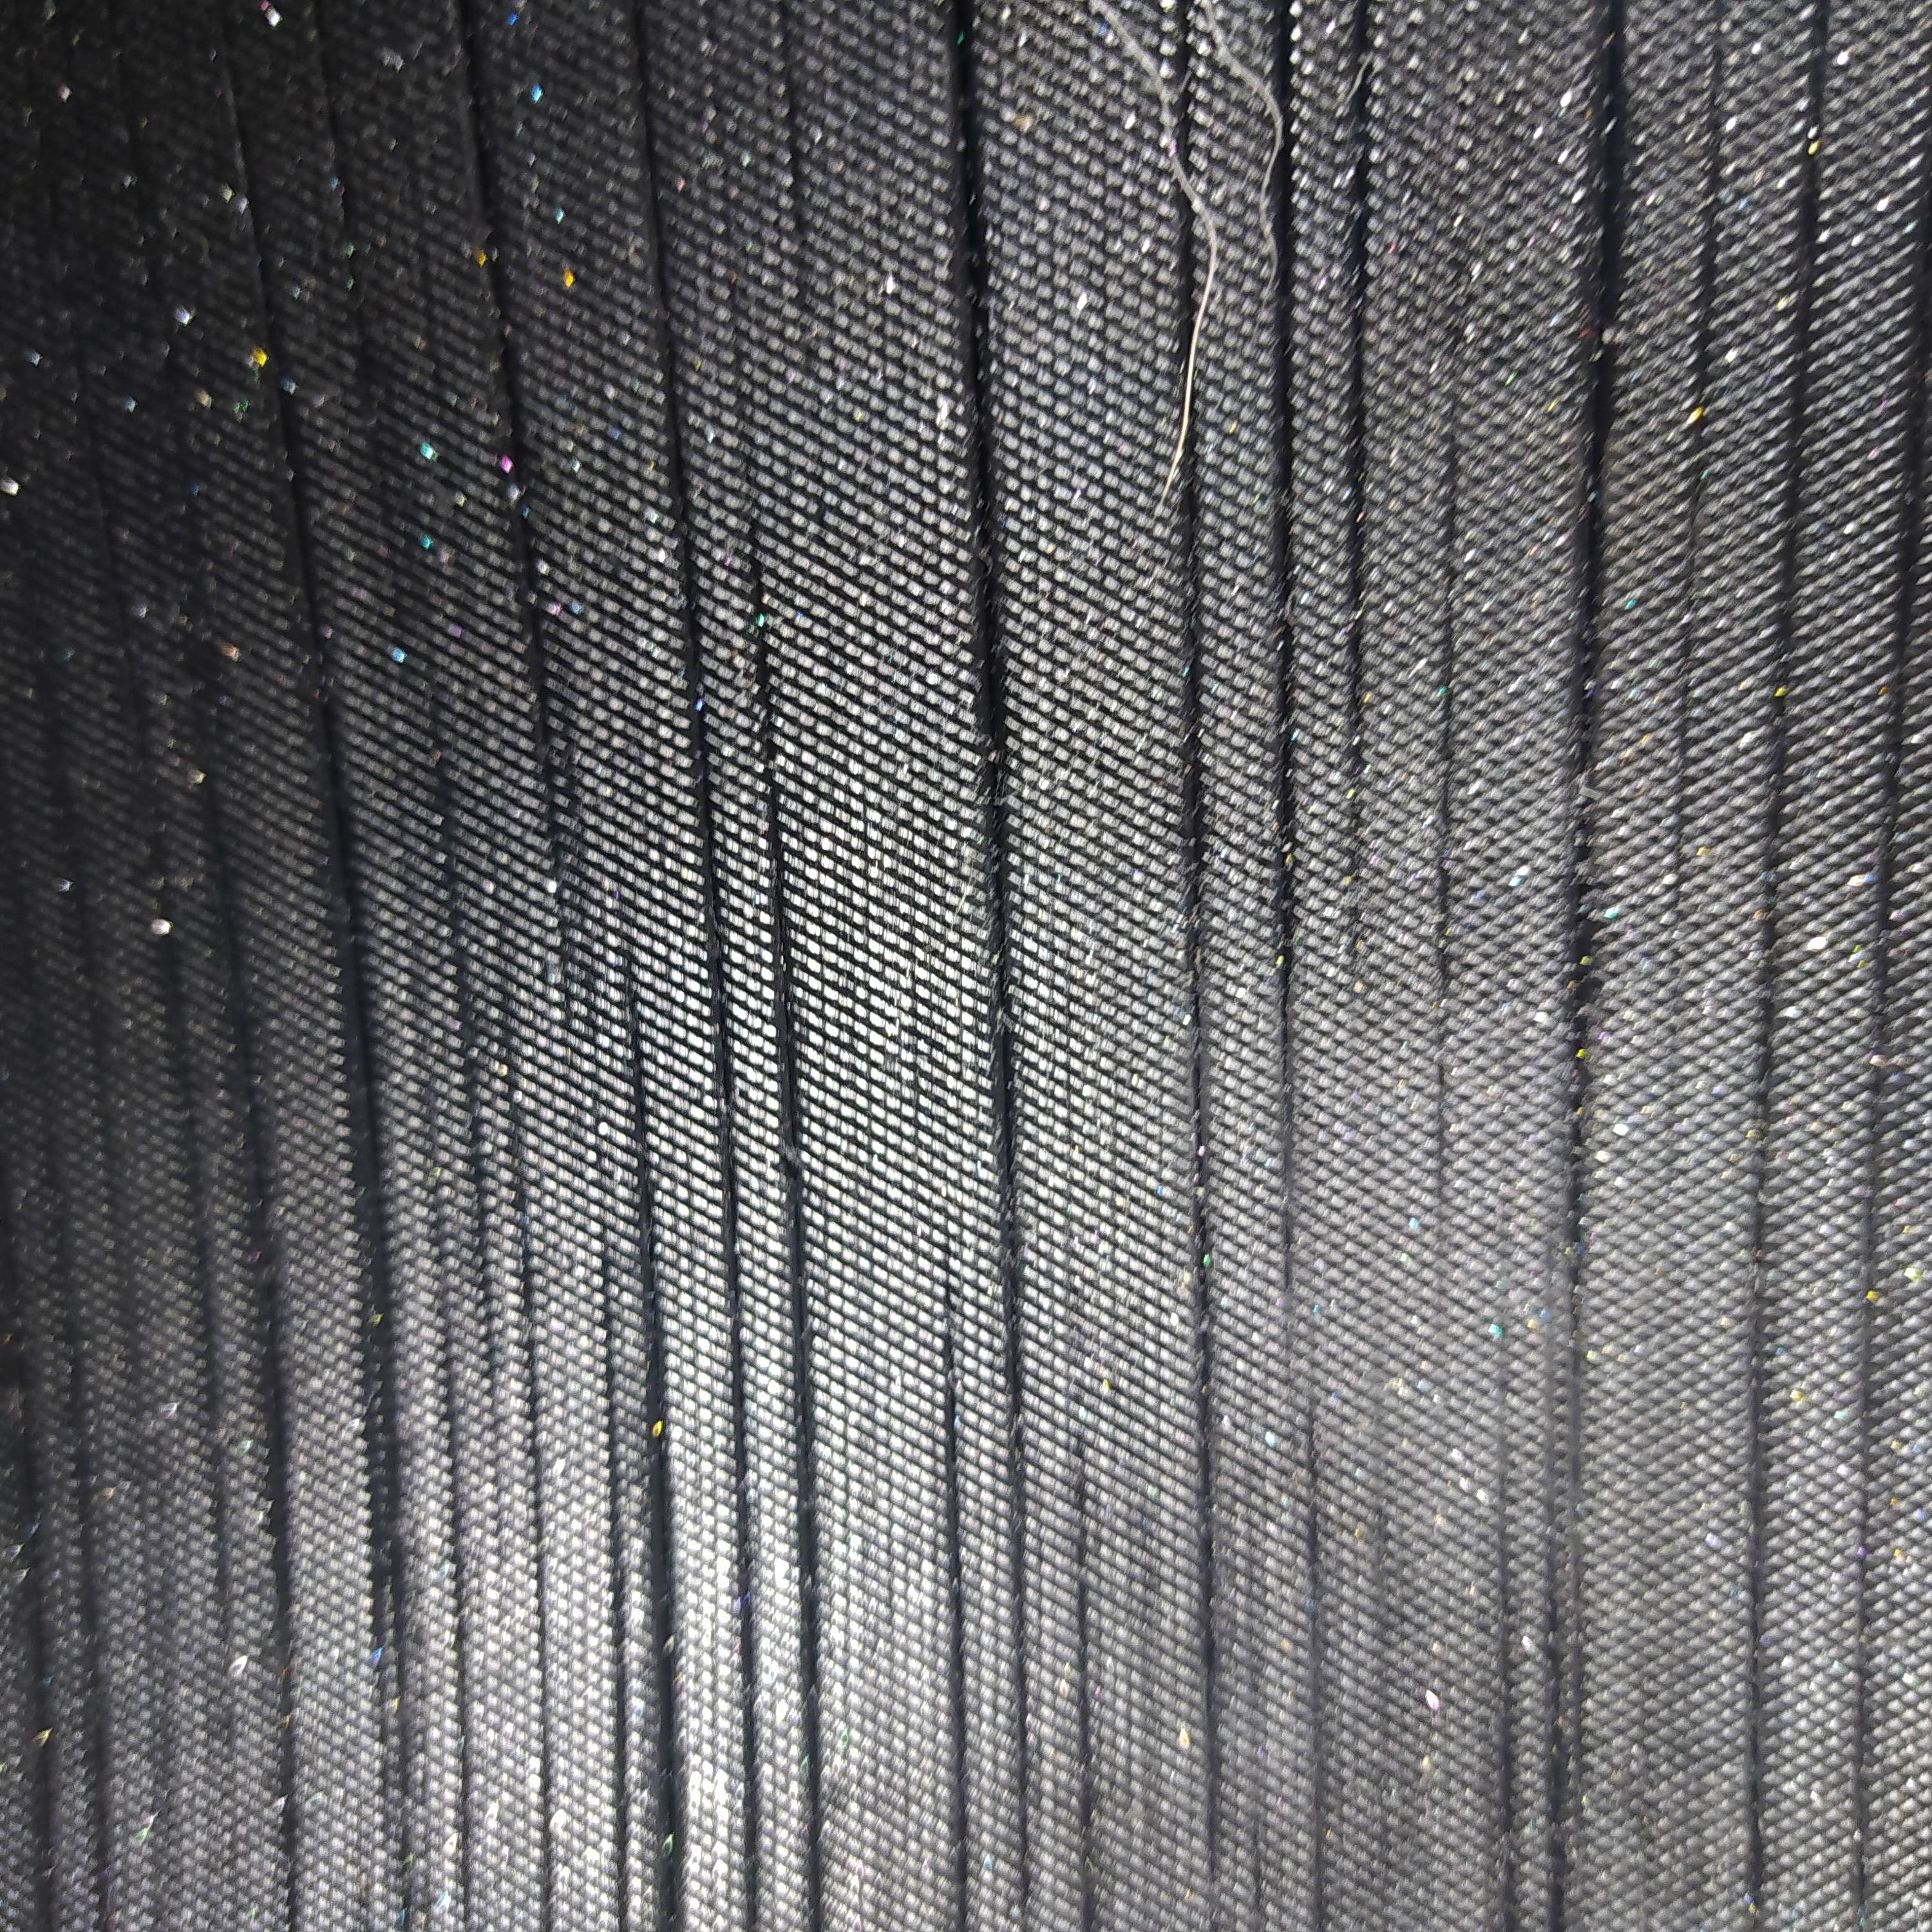friso grande: (1884, 255, 1932, 729), (508, 566, 571, 851), (1330, 4, 1387, 322), (950, 315, 1016, 580), (939, 7, 994, 320), (483, 248, 534, 573), (1189, 1290, 1226, 1732), (1251, 2, 1309, 283), (745, 690, 800, 987), (1180, 929, 1223, 1300), (764, 975, 810, 1307), (1562, 449, 1612, 743), (789, 1596, 833, 1921), (451, 21, 513, 253), (961, 580, 1017, 833), (1573, 202, 1629, 451), (1557, 729, 1606, 1014), (640, 1658, 692, 1920), (1543, 1629, 1589, 1920), (1162, 4, 1203, 324), (786, 1299, 826, 1617), (985, 1021, 1039, 1260), (1580, 0, 1642, 202), (1171, 304, 1207, 656), (19, 1617, 60, 1921), (1493, 1525, 1523, 1932), (1435, 400, 1470, 736), (117, 623, 163, 878), (1270, 770, 1307, 1079), (1330, 672, 1375, 931), (1847, 1481, 1888, 1760), (610, 964, 660, 1192), (1541, 1210, 1594, 1422), (350, 1251, 403, 1461), (625, 1184, 667, 1445), (368, 1603, 423, 1805), (637, 1430, 683, 1668), (340, 1072, 400, 1254), (177, 740, 239, 916), (1422, 729, 1460, 1016), (1541, 1419, 1591, 1633), (1256, 274, 1306, 488), (1265, 483, 1300, 778), (11, 1392, 55, 1622), (264, 1633, 306, 1861), (977, 826, 1024, 1028), (1764, 575, 1808, 793), (667, 518, 715, 715), (1178, 644, 1210, 938), (1269, 1074, 1304, 1338), (1856, 1168, 1886, 1477), (1336, 308, 1380, 517), (598, 1490, 637, 1727), (53, 770, 99, 970), (356, 1451, 414, 1608), (1863, 952, 1905, 1168), (993, 1249, 1035, 1463), (936, 1419, 973, 1661), (623, 7, 669, 202), (81, 1661, 115, 1921), (947, 1647, 977, 1930), (525, 1721, 566, 1930), (1000, 1458, 1039, 1675), (1741, 1688, 1776, 1927), (333, 909, 384, 1074), (242, 1325, 297, 1479), (1070, 1419, 1100, 1698), (81, 959, 120, 1171), (188, 1279, 226, 1490), (1801, 0, 1836, 223), (214, 1047, 278, 1171), (152, 879, 191, 1081), (1007, 1674, 1039, 1920), (299, 660, 357, 793), (1882, 727, 1916, 954), (182, 1076, 219, 1279), (1336, 508, 1380, 678), (656, 370, 702, 529), (1776, 389, 1815, 577), (1560, 1014, 1598, 1210), (267, 340, 313, 497), (311, 787, 372, 908), (53, 1299, 92, 1484), (237, 1180, 285, 1330), (242, 180, 283, 356), (686, 717, 725, 899), (1076, 1695, 1106, 1930), (1741, 1467, 1771, 1700), (736, 1651, 764, 1895), (1752, 966, 1785, 1168), (439, 1353, 472, 1555), (1739, 1118, 1783, 1269), (594, 1284, 625, 1506), (143, 258, 188, 409), (1760, 789, 1798, 968), (1741, 1267, 1773, 1468), (74, 1477, 108, 1668), (713, 1088, 745, 1288), (646, 203, 683, 373), (1844, 1762, 1881, 1930), (702, 902, 734, 1097), (729, 1470, 761, 1663), (264, 1479, 303, 1637), (1789, 226, 1826, 391), (218, 32, 255, 196), (207, 911, 255, 1039), (290, 485, 324, 663), (315, 90, 356, 237), (377, 1801, 426, 1921), (740, 517, 771, 699), (444, 1541, 474, 1727), (449, 1723, 478, 1920), (938, 1210, 962, 1426), (90, 478, 126, 621), (725, 1286, 752, 1474), (209, 1479, 235, 1658), (101, 7, 134, 131), (295, 2, 338, 99), (122, 127, 152, 253), (274, 1854, 313, 1932)
friso pequeno: (717, 186, 755, 525), (418, 663, 467, 916), (508, 1304, 561, 1527), (579, 1037, 623, 1300), (1424, 1007, 1461, 1293), (1299, 1369, 1325, 1750), (1661, 679, 1709, 885), (474, 1346, 517, 1573), (444, 918, 490, 1120), (538, 835, 584, 1031), (701, 2, 745, 200), (778, 182, 824, 372), (464, 1095, 495, 1341), (773, 0, 816, 180), (1493, 1203, 1516, 1536), (1658, 876, 1695, 1076), (504, 1143, 545, 1316), (527, 1522, 557, 1727), (1698, 4, 1734, 173), (423, 1166, 453, 1362), (1683, 290, 1723, 430), (492, 966, 524, 1141), (1693, 175, 1732, 310), (1672, 545, 1706, 688), (1684, 426, 1718, 552), (1658, 1067, 1688, 1159)
